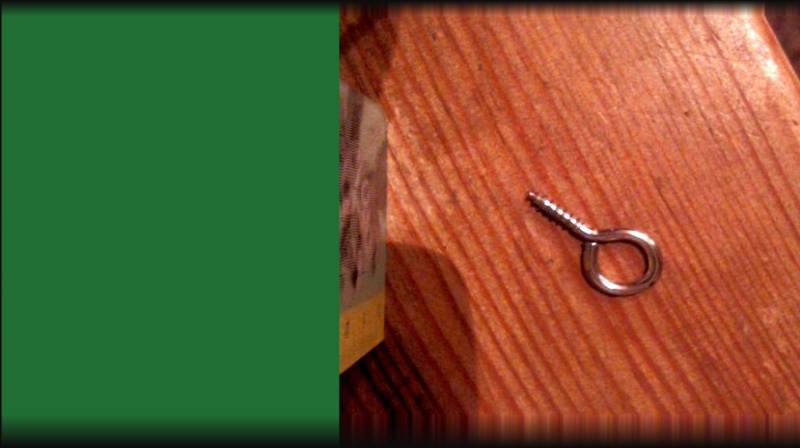O001: (522, 190, 663, 298)
